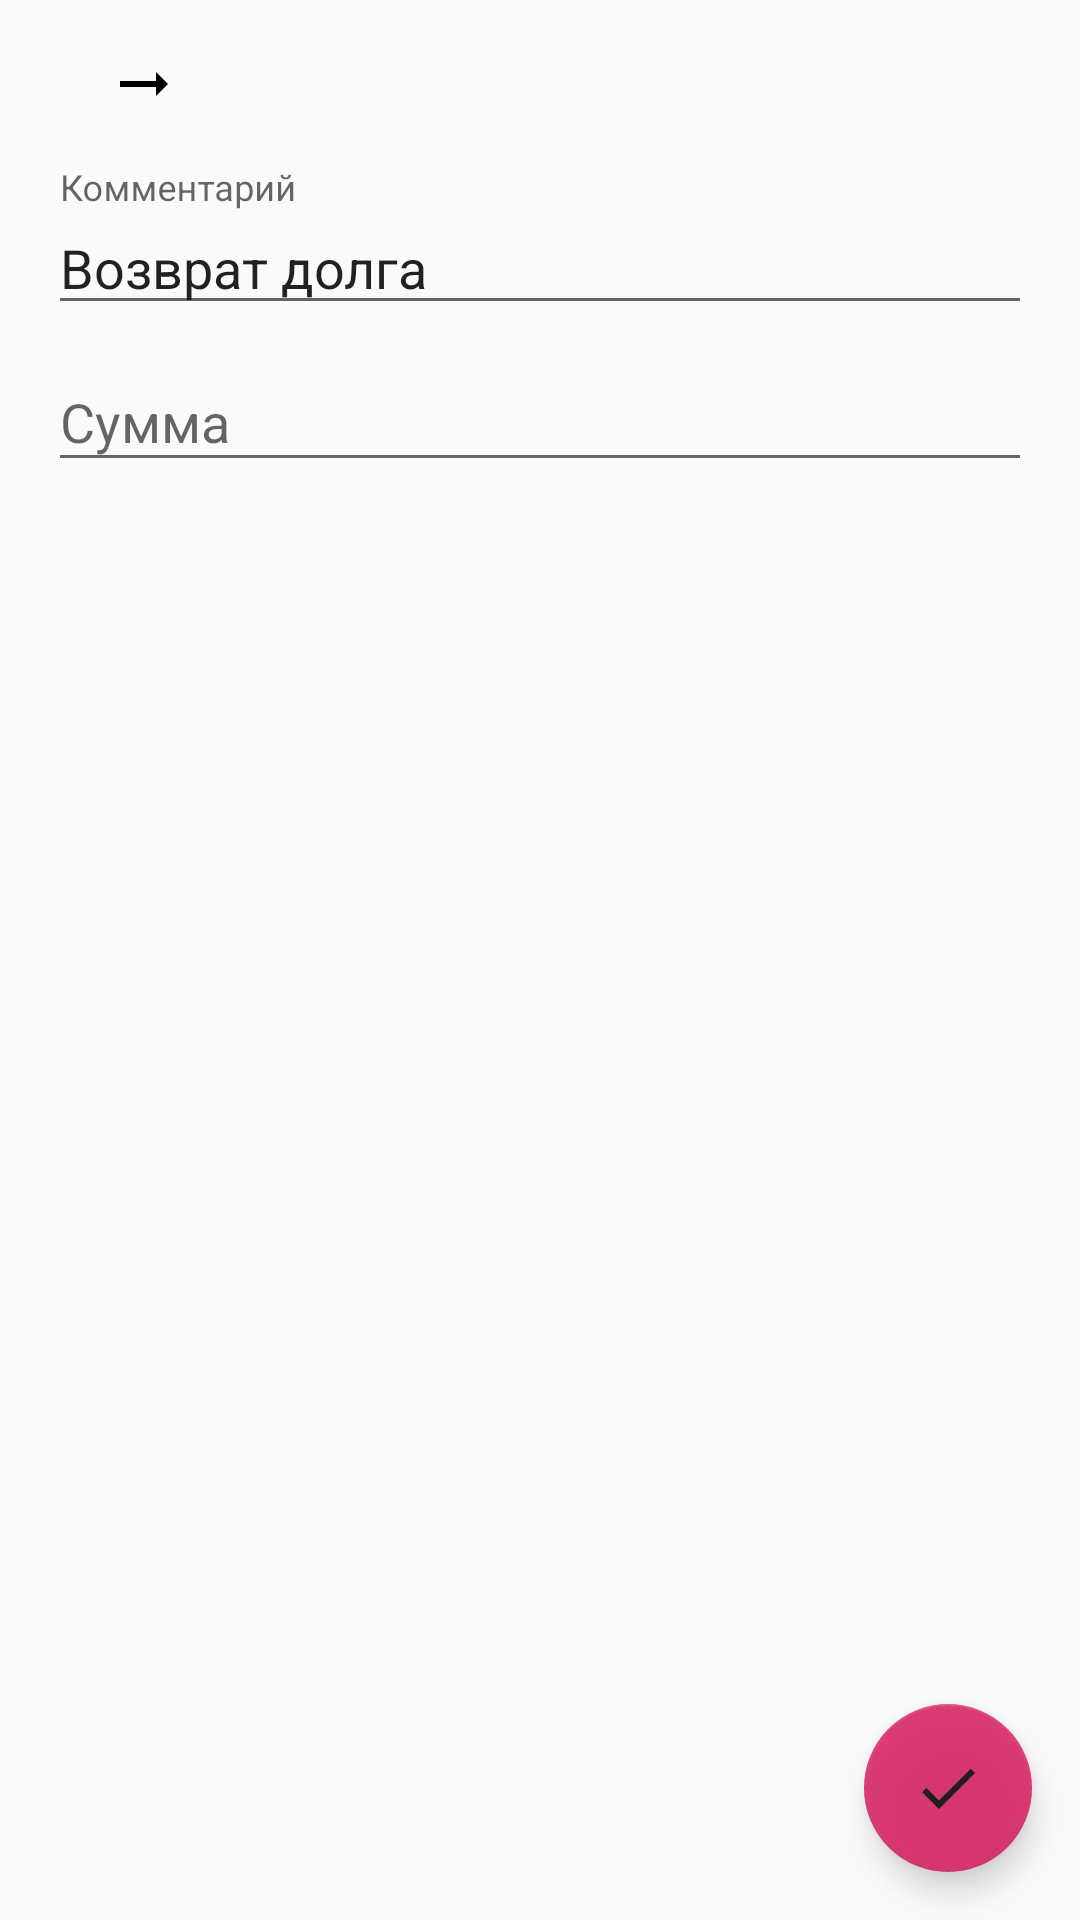

Named icons in this screenshot (1080px×1920px) and their centers, point (x, y):
arrow forward: point (144, 84)
done: point (948, 1788)
